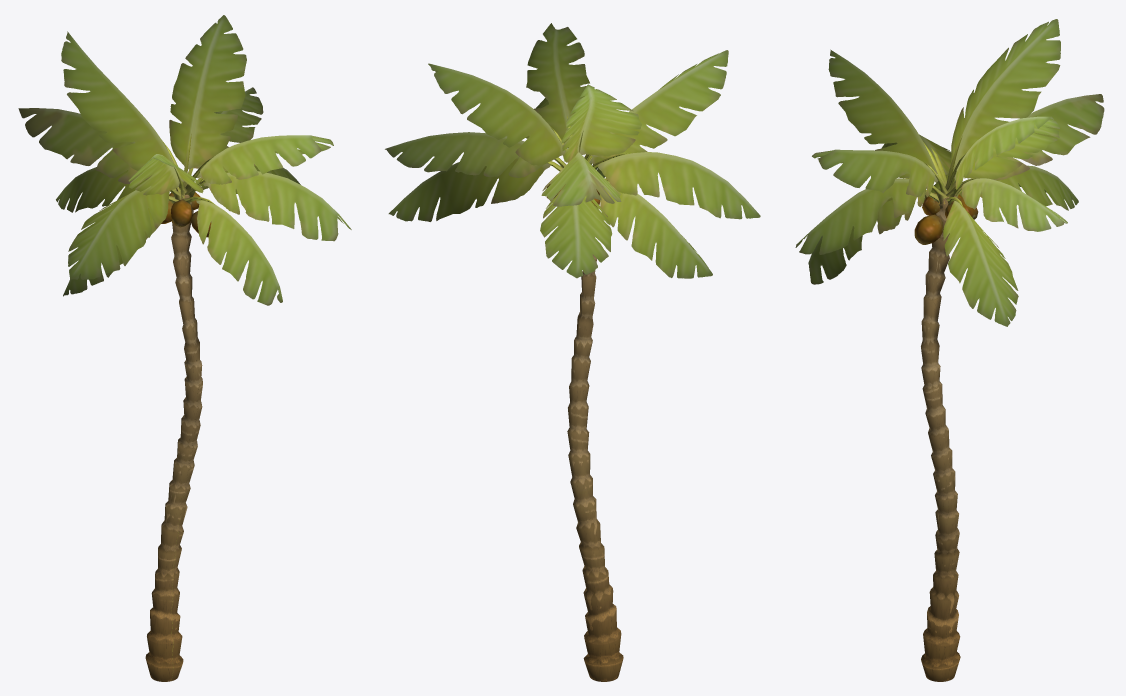
The model's file is coconut palm 02_lod1.obj.
The picture shows the model from 3 angles, left to right: view 1: azimuth 30°, elevation 25°; view 2: azimuth 150°, elevation 25°; view 3: azimuth 270°, elevation 25°; orthographic projection. The views are drawn at different scales.
Parts seen in each view (by area): view 1: tree; view 2: tree; view 3: tree.
Part boxes in pixels (x1=…): tree: x1=18, y1=15, x2=351, y2=681; tree: x1=385, y1=23, x2=760, y2=681; tree: x1=795, y1=19, x2=1104, y2=681.
Size of the model in its own units: 426 by 847 by 388.
